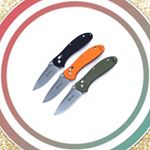knife: (54, 55, 118, 115), (43, 45, 105, 103), (32, 33, 93, 90)
